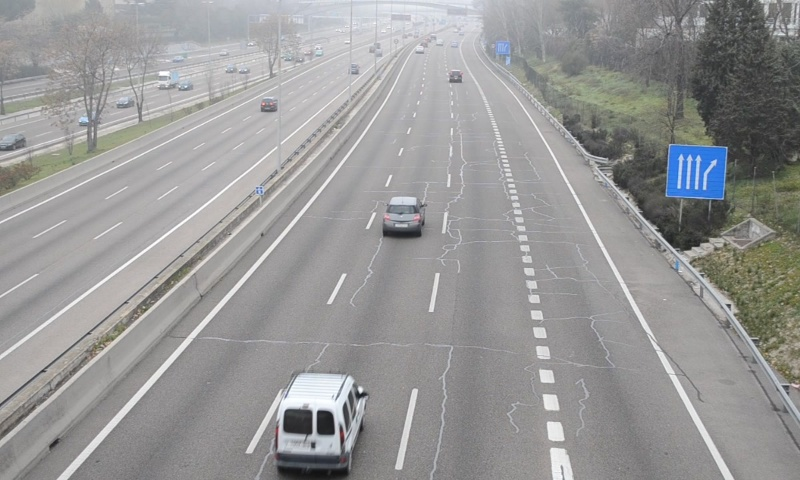car: (382, 196, 422, 234), (448, 69, 462, 82)
van: (276, 372, 367, 470)
